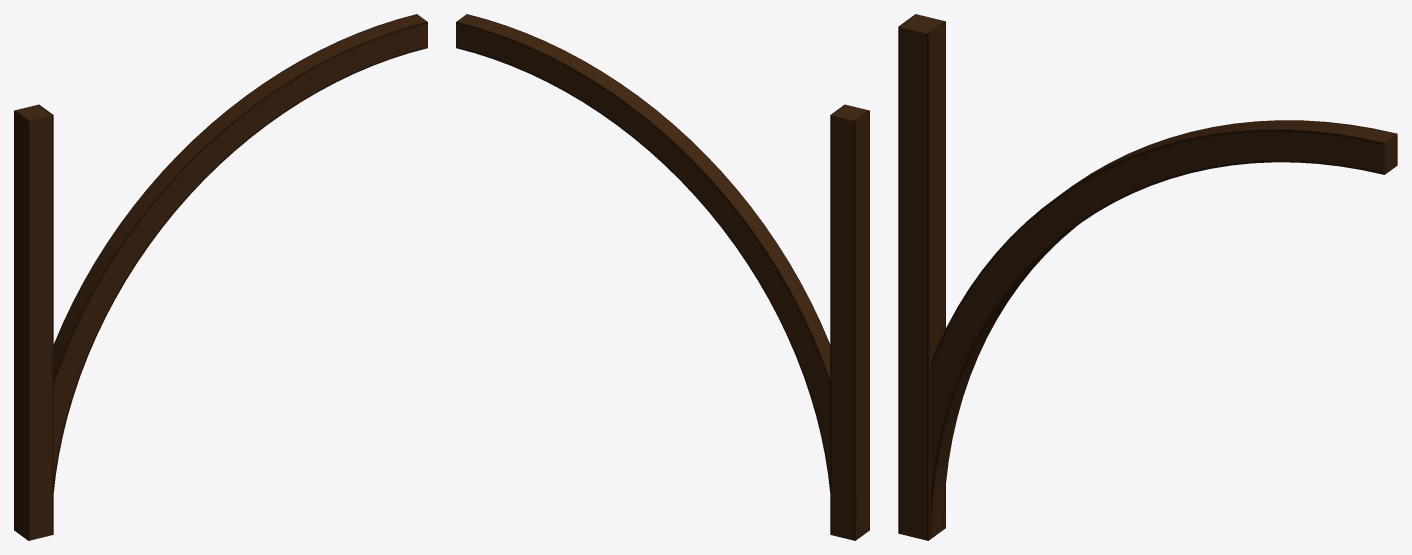
File: bm_arch_8_normal.obj
The picture shows the model from 3 angles, left to right: view 1: azimuth 30°, elevation 25°; view 2: azimuth 150°, elevation 25°; view 3: azimuth 330°, elevation 25°; orthographic projection. The views are drawn at different scales.
Visible parts, largest first — view 1: bm_arch_8_normal; view 2: bm_arch_8_normal; view 3: bm_arch_8_normal.
Part boxes in pixels (x1,y1,x2,y2): bm_arch_8_normal: (14,14,427,540); bm_arch_8_normal: (456,14,869,540); bm_arch_8_normal: (898,14,1397,540).
Bounding box in the file's own units: 16 × 16 × 1.
